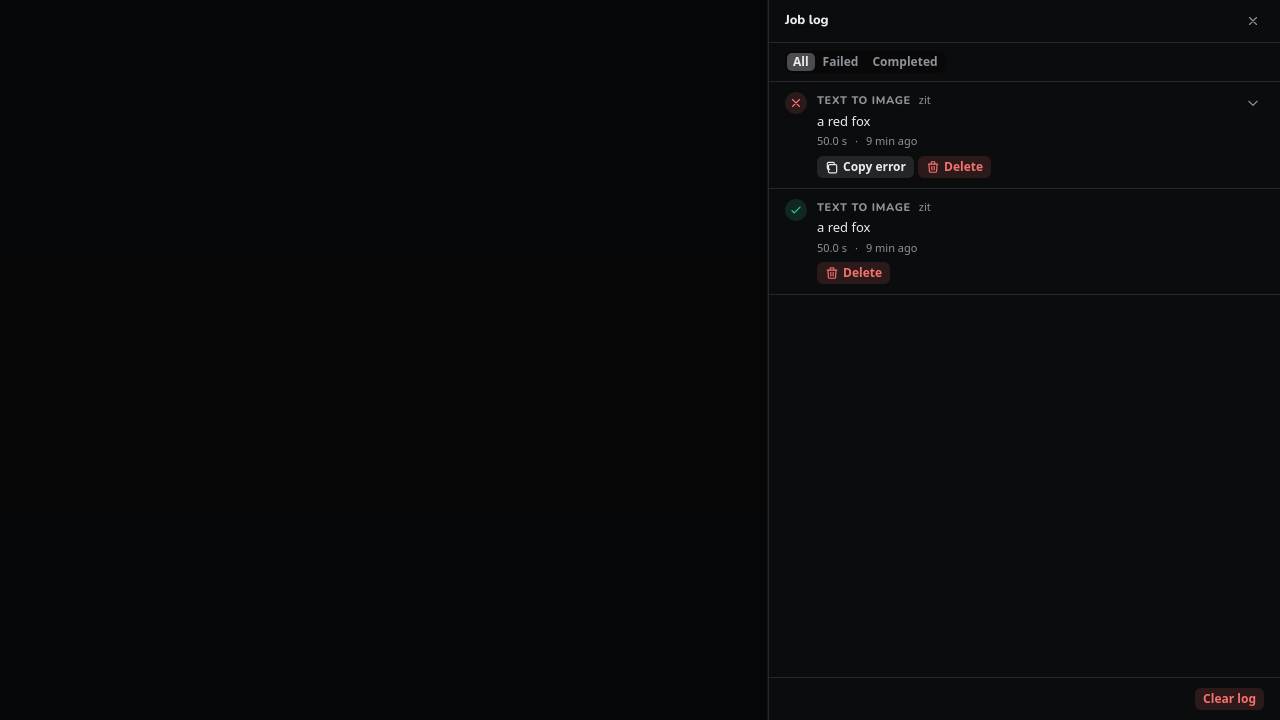
JobLogDrawer › expands a failed row to its error text, and offers no expander on a row without error detail
Click the button named "Show details": (1253,103) top-left (1242, 92), bottom-right (1264, 114)
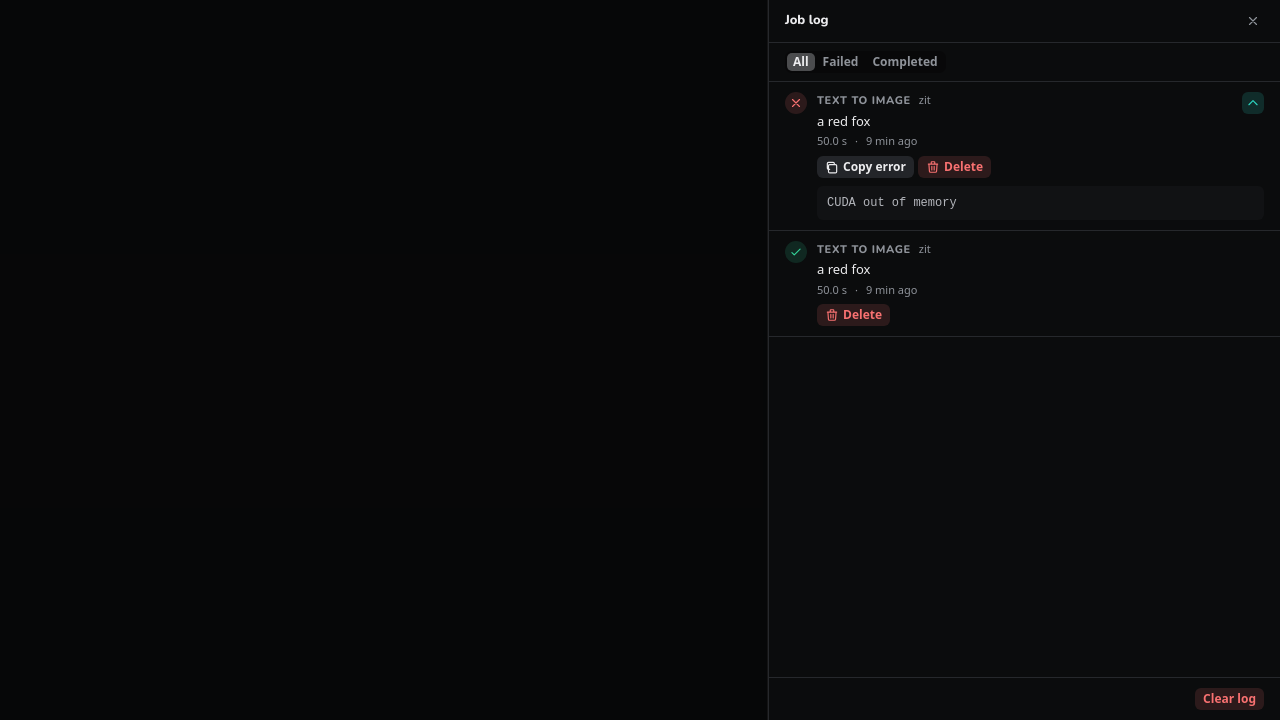
Now the button named "Hide details" is expanded, box top-left (1242, 92), bottom-right (1264, 114)
Now the element with test id "job-log-detail" reads "CUDA out of memory", box top-left (827, 196), bottom-right (957, 210)
